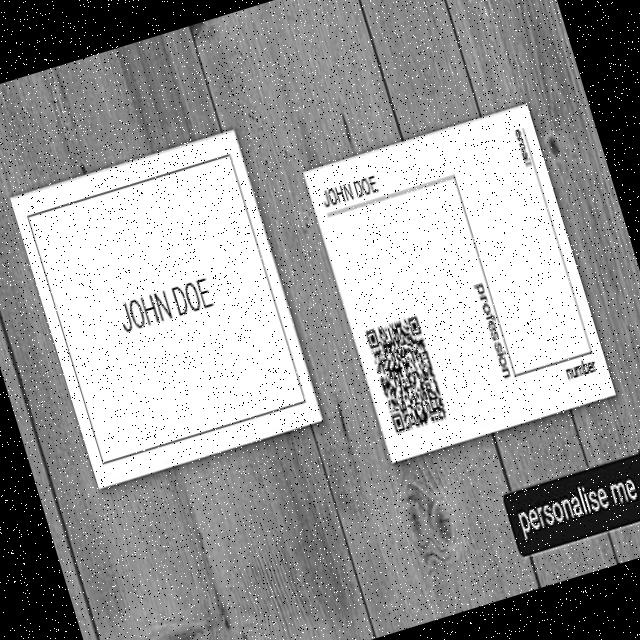QR-codes: (366, 313, 451, 437)
